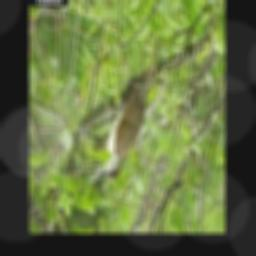Cuckoo: (103, 40, 159, 180)
